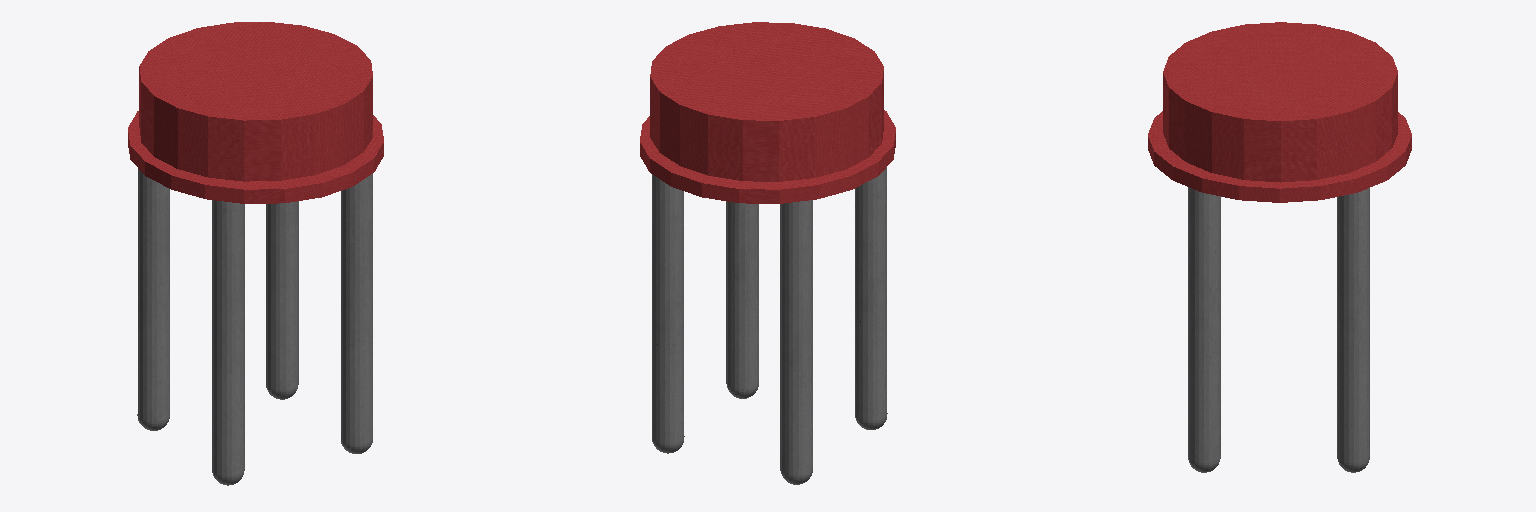
3 views of the same model, side by side, from view 1: azimuth 30°, elevation 25°; view 2: azimuth 150°, elevation 25°; view 3: azimuth 270°, elevation 25° (orthographic).
Parts seen in each view (by area): view 1: pCylinder3; view 2: pCylinder3; view 3: pCylinder3.
Part boxes in pixels (x1,y1,x2,y2): pCylinder3: (128, 22, 383, 485); pCylinder3: (640, 22, 895, 484); pCylinder3: (1148, 22, 1411, 472).
Bounding box in the file's own units: 2.33 × 3.71 × 2.41.
Materials: 10 (2 with a texture image).